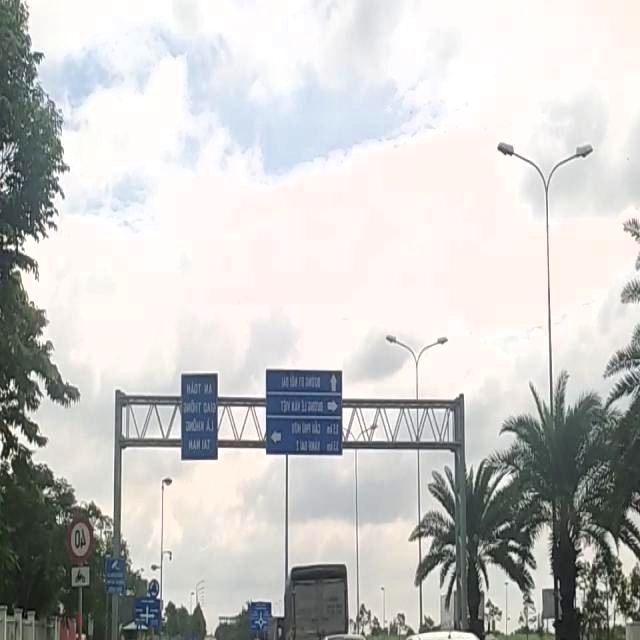P.127*40: (67, 514, 93, 560)
S.505a*Xe may: (69, 563, 93, 591)
